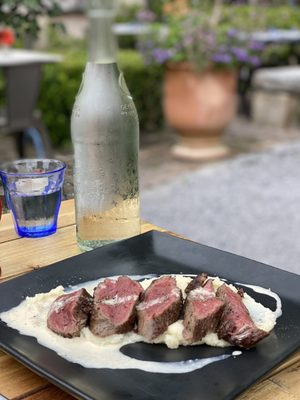pizza: (0, 158, 67, 239)
